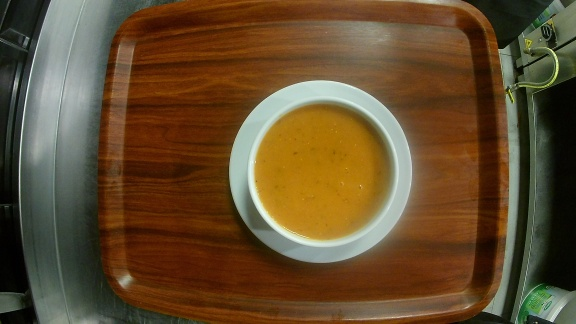ezogelin: (229, 81, 414, 264)
